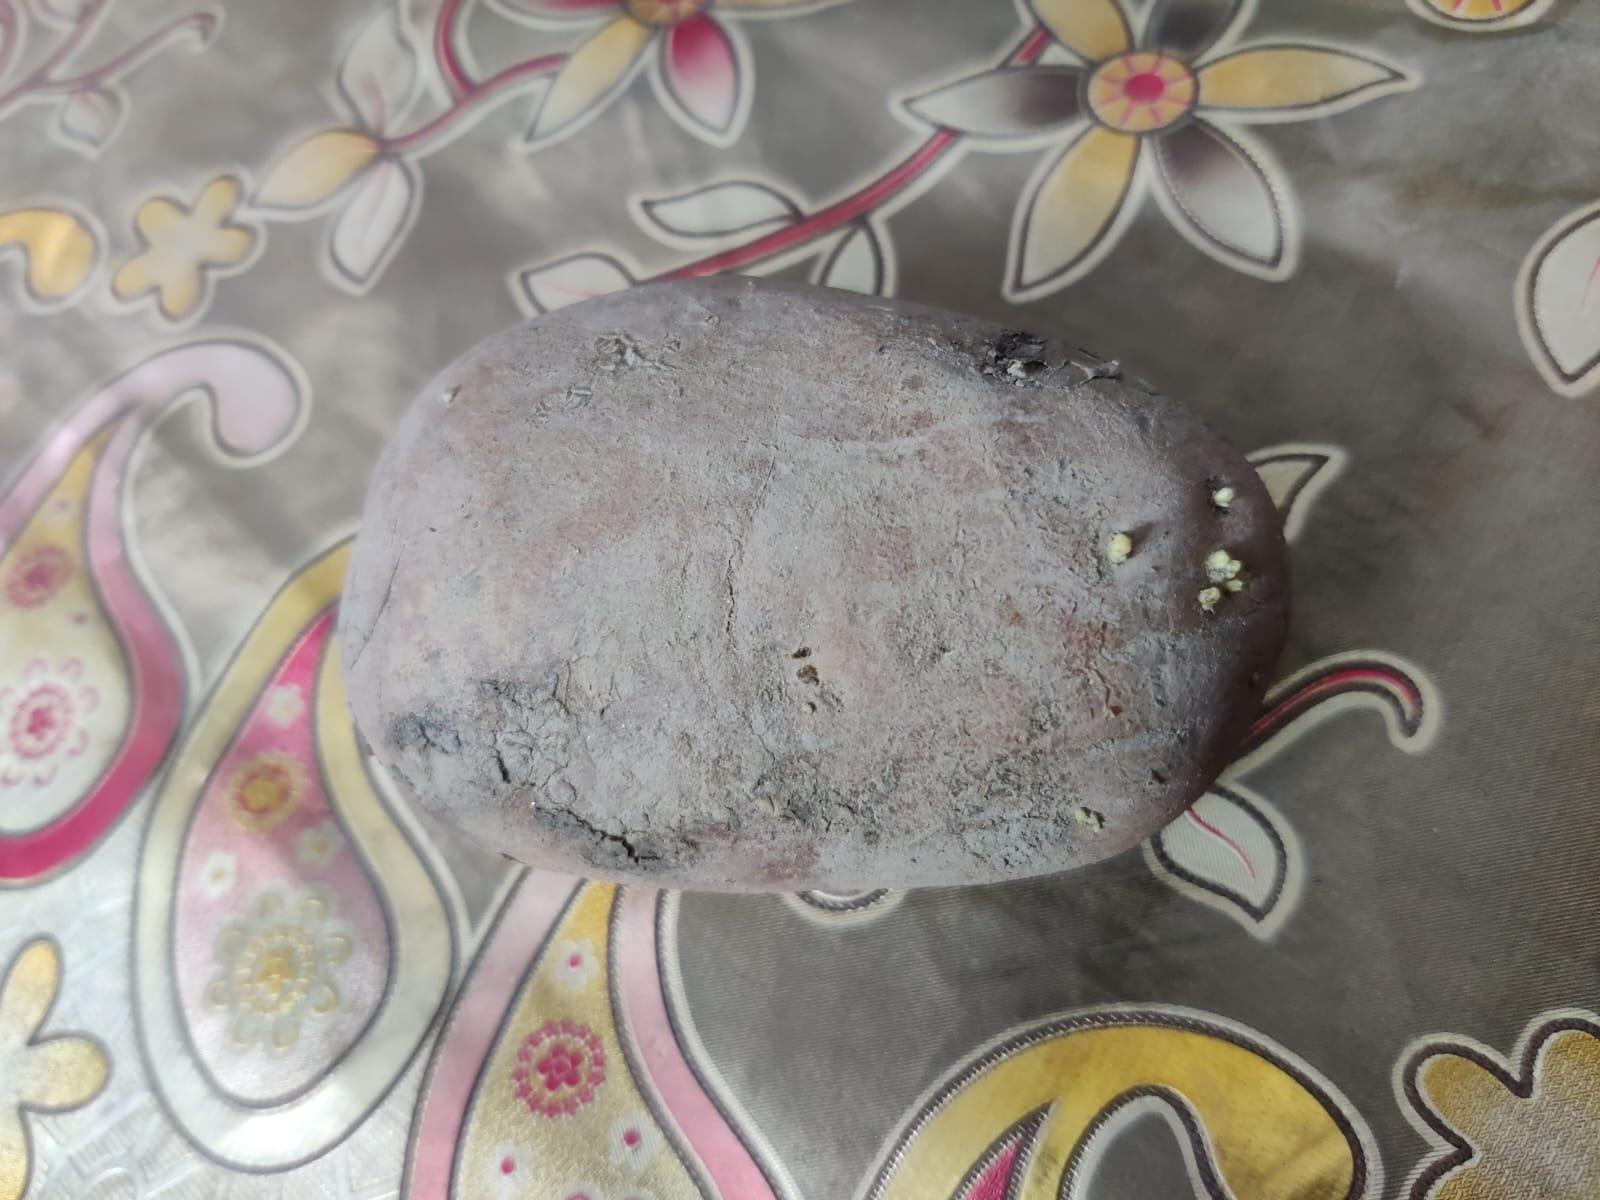non-mango: (340, 275, 1300, 892)
